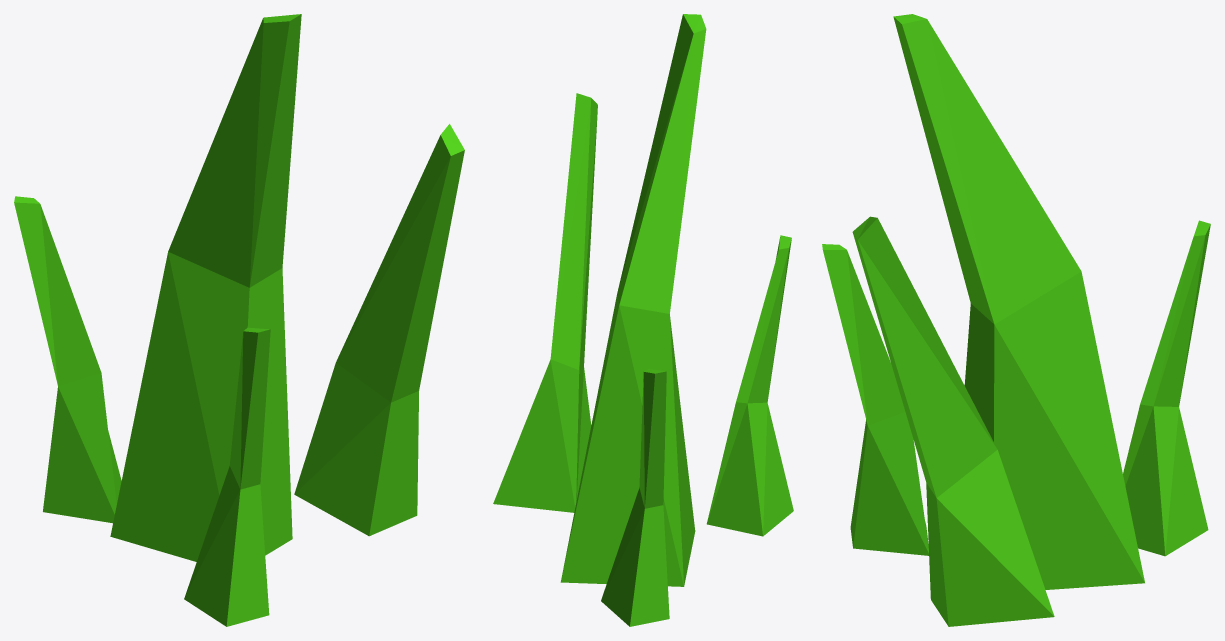
File: Grass1.fbx
3 views of the same model, side by side, from view 1: azimuth 30°, elevation 25°; view 2: azimuth 150°, elevation 25°; view 3: azimuth 270°, elevation 25° (orthographic). The views are drawn at different scales.
Parts seen in each view (by area): view 1: Plane.013, Plane.012, Plane.015, Plane.016; view 2: Plane.013, Plane.012, Plane.016, Plane.015; view 3: Plane.013, Plane.012, Plane.016, Plane.015.
Boxes of the visible parts, x1,y1,x2,y2 form: Plane.013: [110, 14, 301, 561]; Plane.012: [294, 124, 464, 536]; Plane.015: [14, 196, 121, 523]; Plane.016: [184, 327, 270, 626]; Plane.013: [560, 14, 706, 586]; Plane.012: [493, 93, 597, 512]; Plane.016: [706, 235, 793, 536]; Plane.015: [601, 369, 669, 626]; Plane.013: [893, 14, 1144, 589]; Plane.012: [852, 216, 1054, 626]; Plane.016: [822, 244, 928, 555]; Plane.015: [1123, 220, 1210, 556].
Bounding box in the file's own units: 63.62 × 126 × 80.31.
